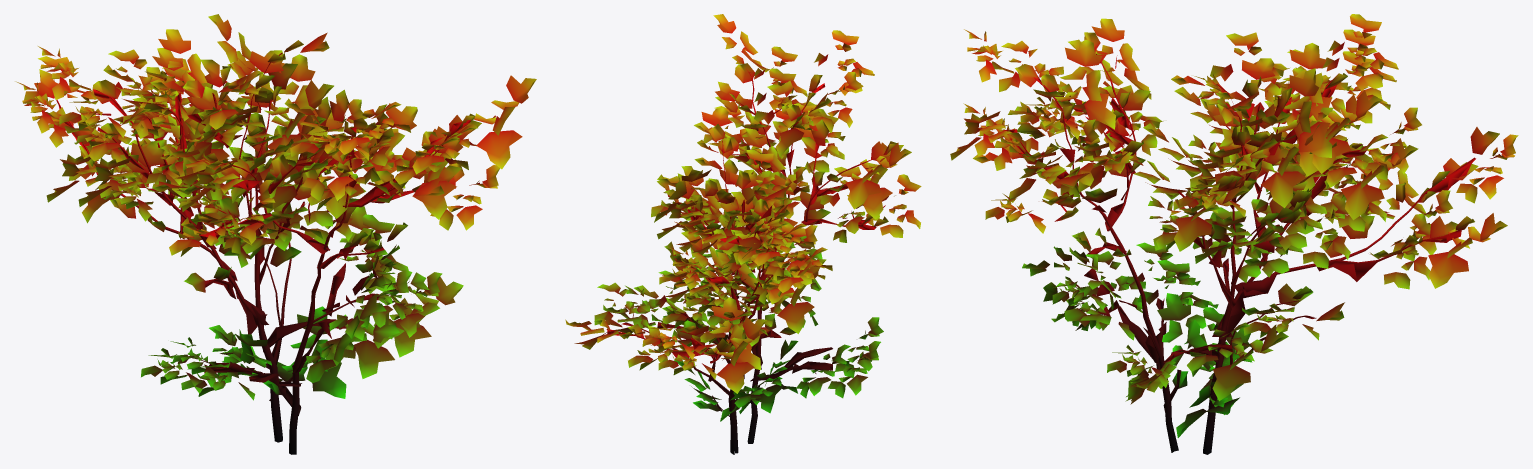
Rendered from SM_EuropeanHornbeam_Sapling_01.fbx.
3 views of the same model, side by side, from view 1: azimuth 30°, elevation 25°; view 2: azimuth 150°, elevation 25°; view 3: azimuth 270°, elevation 25° (orthographic). The views are drawn at different scales.
Visible parts, largest first — view 1: SM_EuropeanHornbeam_Sapling_01; view 2: SM_EuropeanHornbeam_Sapling_01; view 3: SM_EuropeanHornbeam_Sapling_01.
Part boxes in pixels (<box>): SM_EuropeanHornbeam_Sapling_01: <box>15,14,536,454</box>; SM_EuropeanHornbeam_Sapling_01: <box>565,14,921,454</box>; SM_EuropeanHornbeam_Sapling_01: <box>950,14,1518,454</box>.
Bounding box in the file's own units: 184 × 274 × 222.
